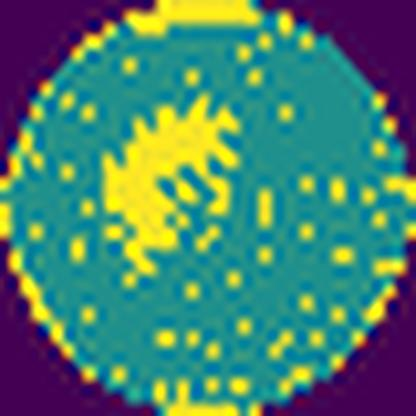Loc: (102, 89, 242, 289)
